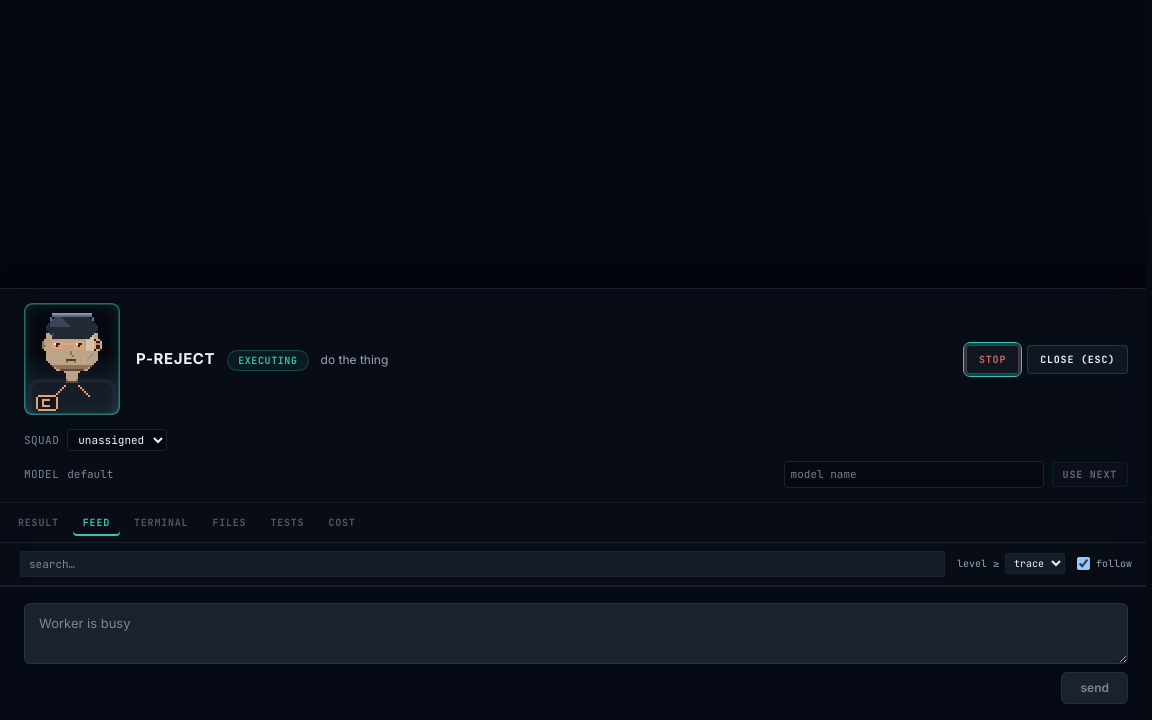
Test: Drawer stop › recovers from a rejected stop promise
The width and height of the screenshot is (1152, 720).
Click the button "stop".
click(993, 359)  # box [966,344,1019,374]
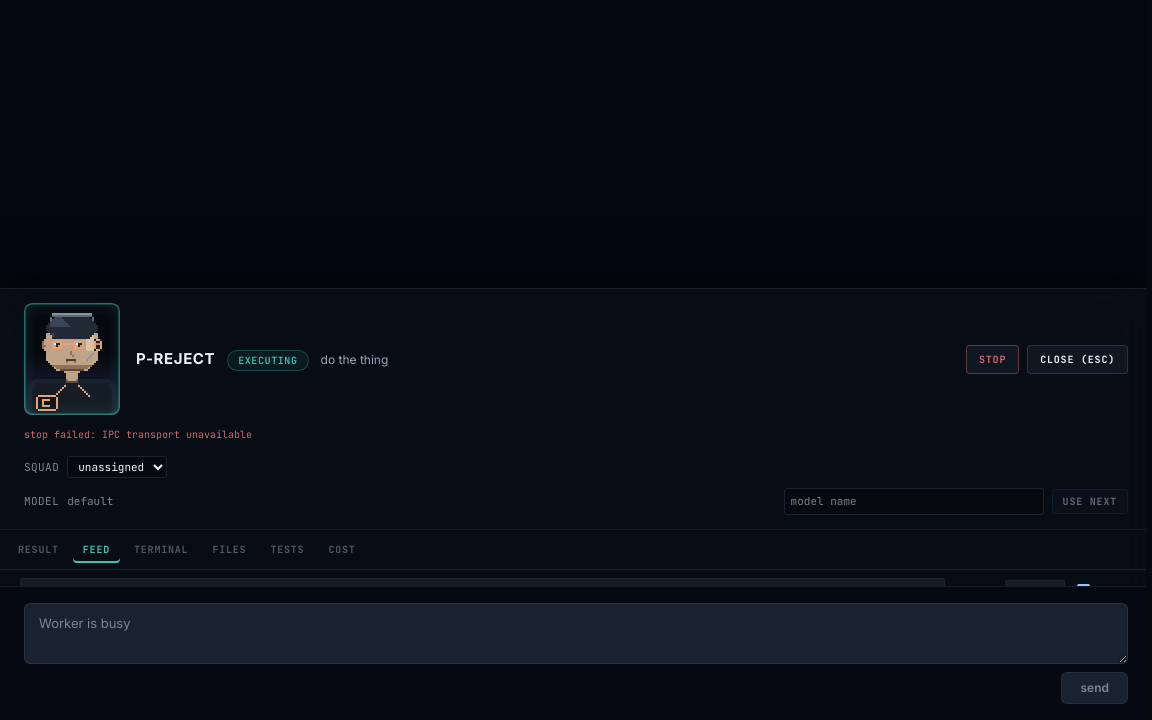
Expected: the message reads "stop failed: IPC transport unavailable", [24,428,252,441]
